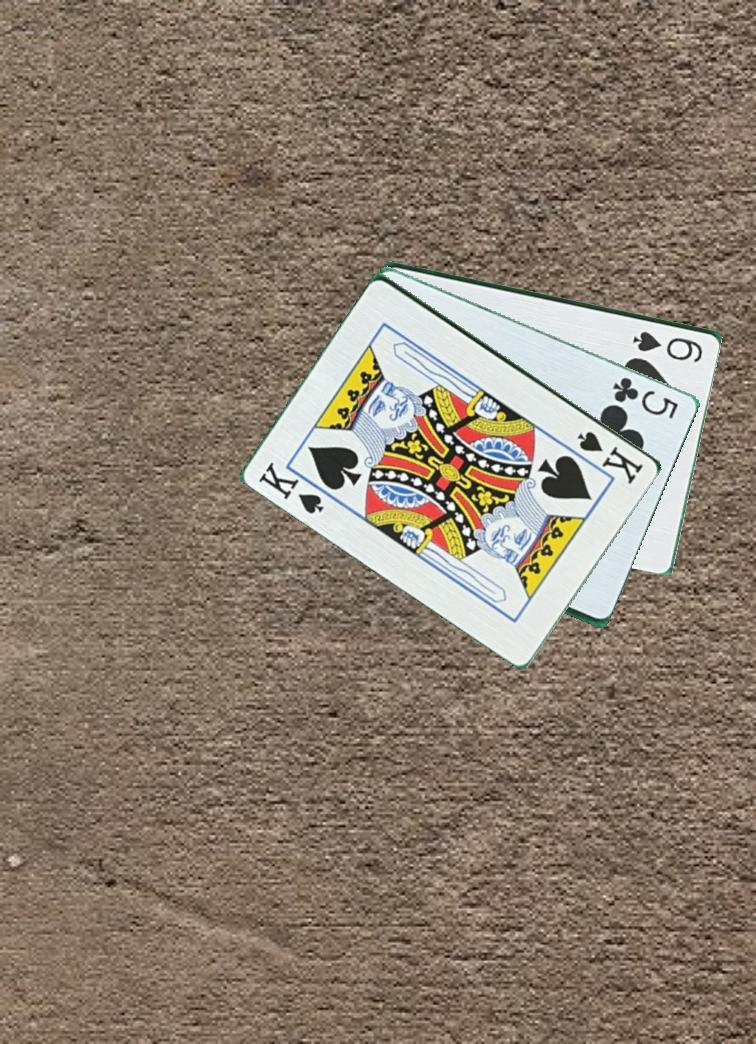5c: (609, 369, 682, 422)
6s: (628, 327, 707, 364)
ks: (256, 453, 327, 517), (574, 427, 647, 487)
